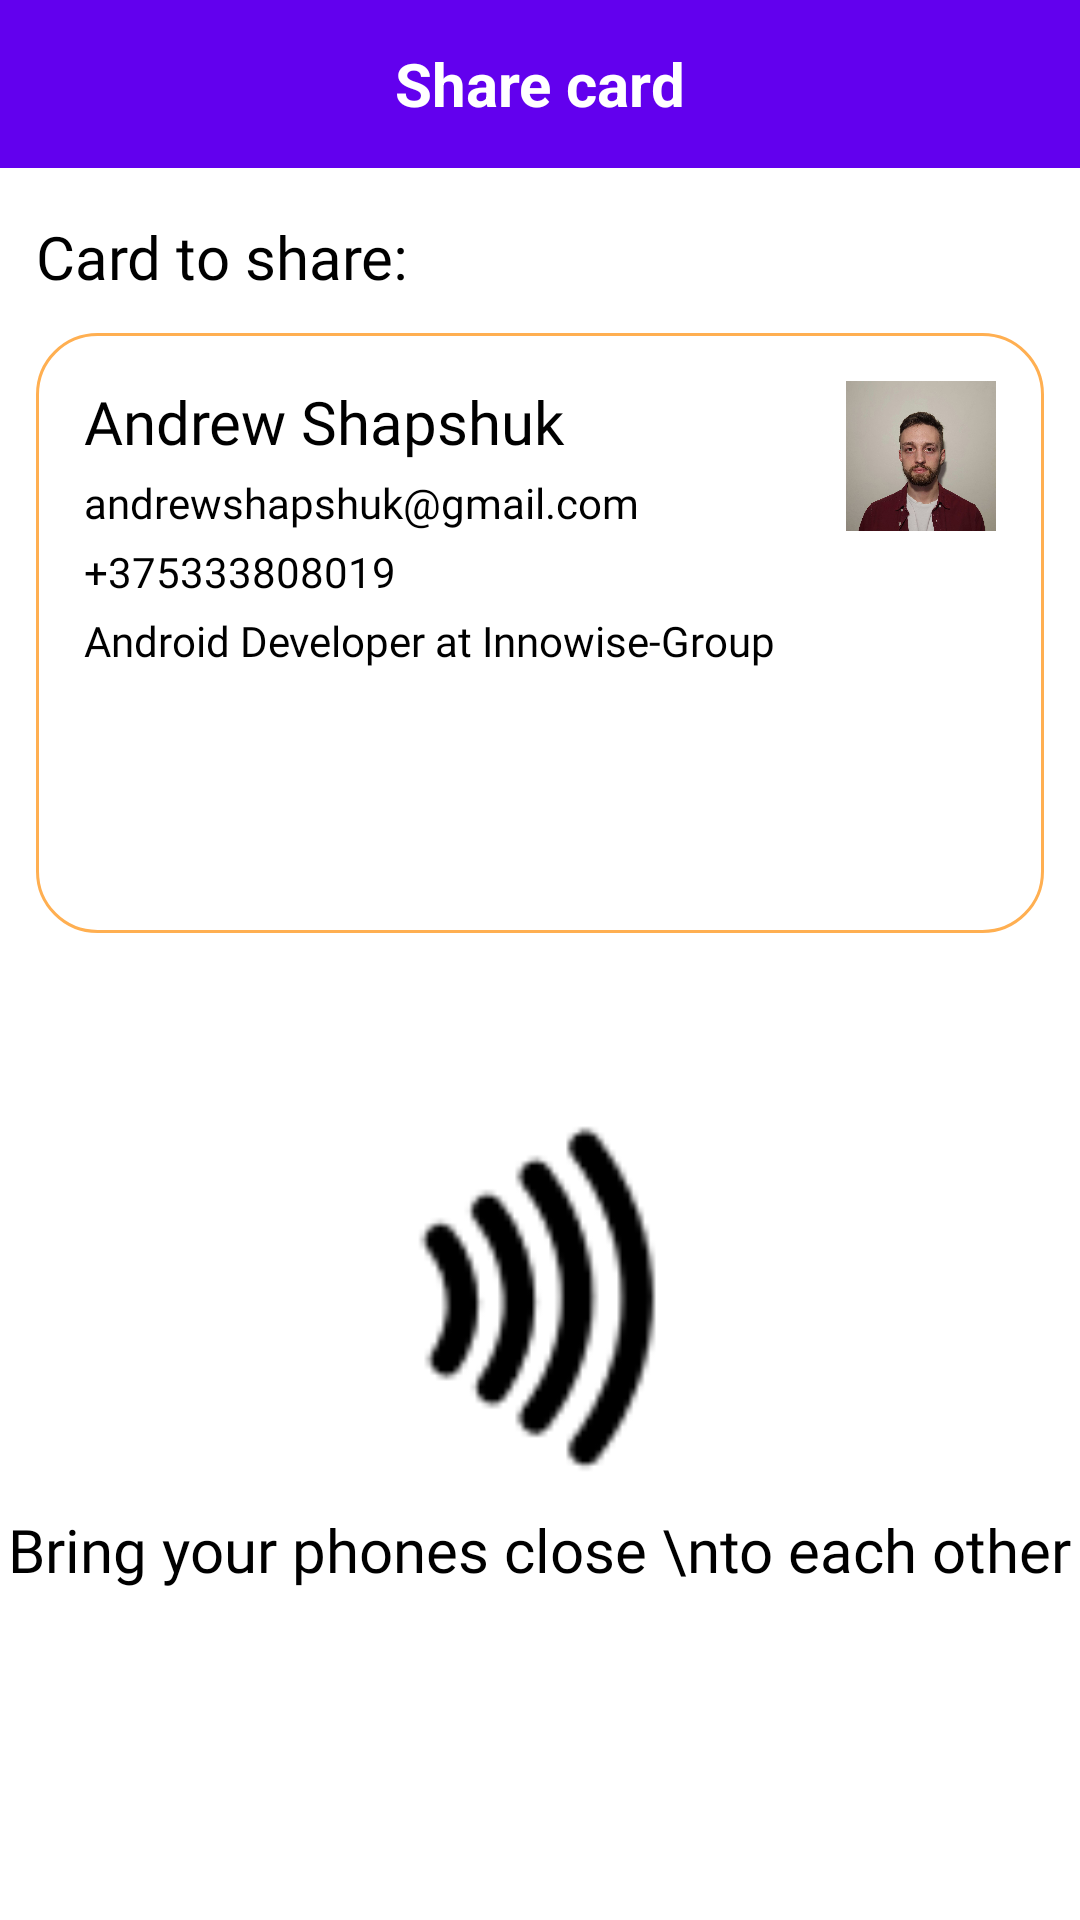

Icon click points for this 1080 x 1920 phone screenshot, format point (x, y):
personal photo: point (921, 456)
